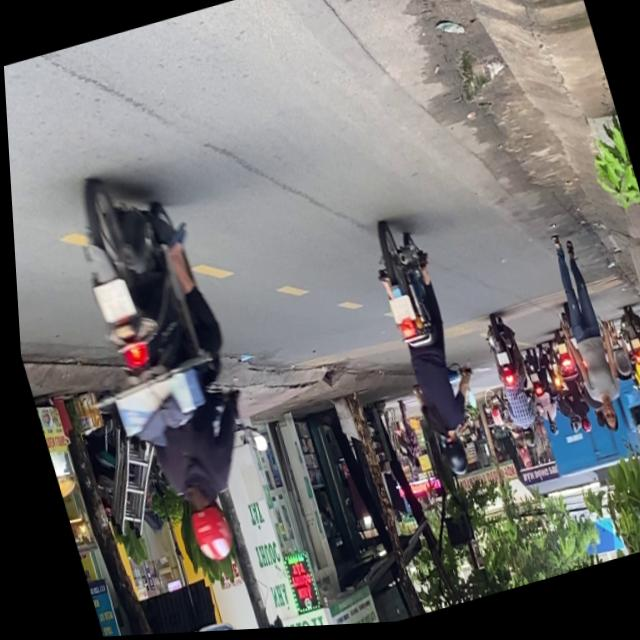helmet: (176, 492, 231, 569), (432, 435, 465, 482)
licenseplate: (49, 157, 280, 585), (356, 215, 489, 491)
nohelmet: (88, 279, 132, 325), (384, 299, 411, 329)
